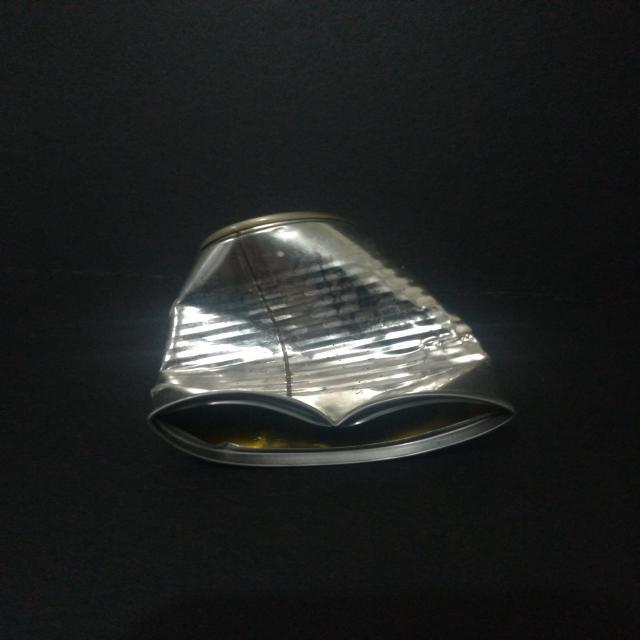Can: (144, 208, 518, 472)
